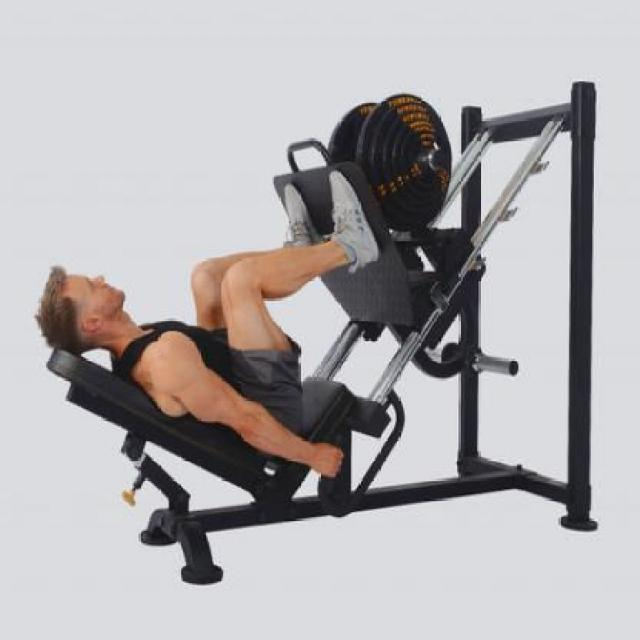leg press: (24, 54, 618, 601)
